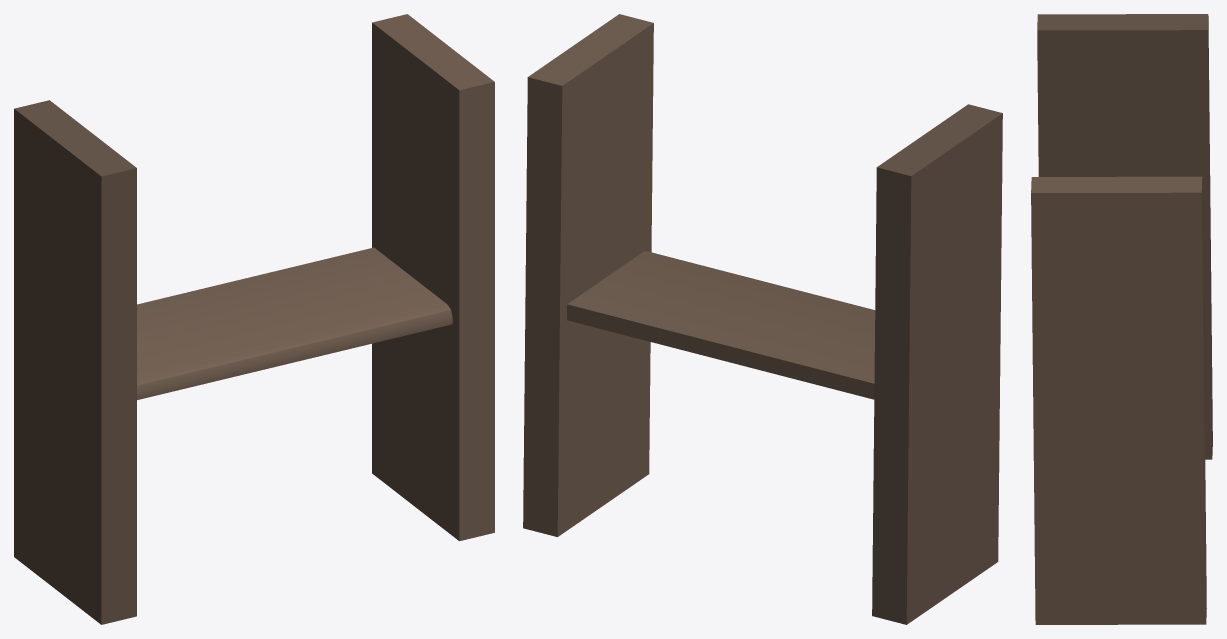
The model's file is mensole_cucina2.fbx.
The picture shows the model from 3 angles, left to right: view 1: azimuth 30°, elevation 25°; view 2: azimuth 150°, elevation 25°; view 3: azimuth 270°, elevation 25°; orthographic projection. The views are drawn at different scales.
Parts seen in each view (by area): view 1: Cylinder.165; view 2: Cylinder.165; view 3: Cylinder.165.
Part boxes in pixels (x1,y1,x2,y2): Cylinder.165: [14, 14, 494, 624]; Cylinder.165: [523, 14, 1002, 624]; Cylinder.165: [1031, 14, 1212, 624].
Bounding box in the file's own units: 177 × 194 × 74.15.
